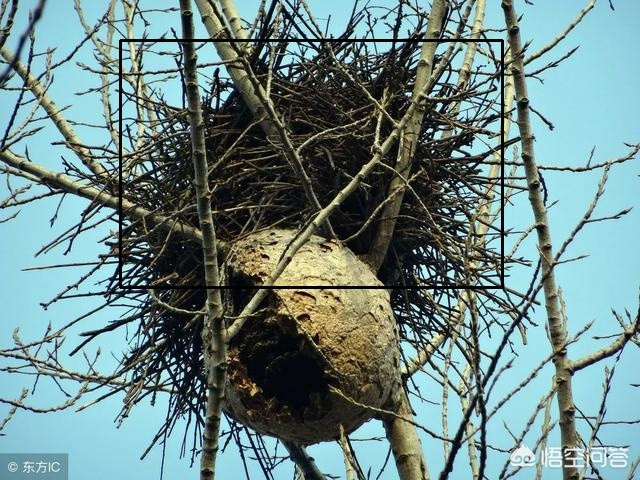bird-nest: (124, 61, 467, 318)
